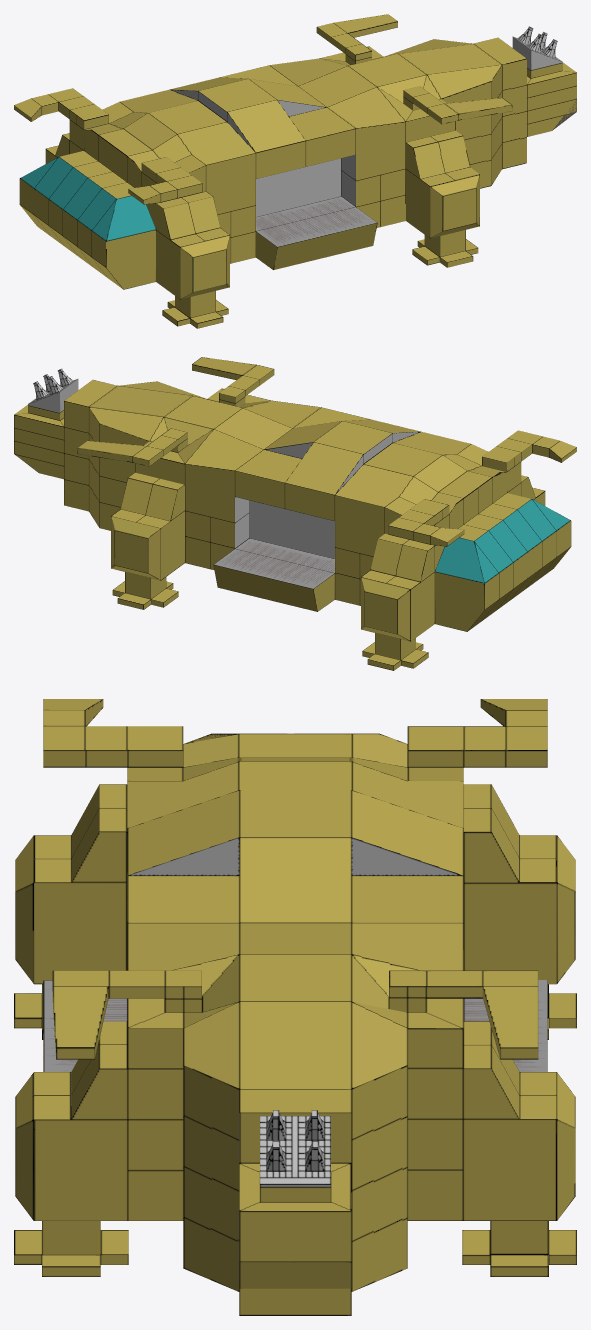
Rendered from drop_ship_bodyMK2.obj.
3 renders of one model, top to bottom at view 1: azimuth 30°, elevation 25°; view 2: azimuth 150°, elevation 25°; view 3: azimuth 270°, elevation 25°, orthographic. The views are drawn at different scales.
Parts seen in each view (by area): view 1: main_body.MK2_Cube.015; view 2: main_body.MK2_Cube.015; view 3: main_body.MK2_Cube.015.
Part boxes in pixels (x1,y1,x2,y2): main_body.MK2_Cube.015: (14, 14, 576, 328); main_body.MK2_Cube.015: (14, 357, 576, 670); main_body.MK2_Cube.015: (14, 699, 576, 1315).
Size of the model in its own units: 20 by 5.84 by 10.04.
Materials: 1 (1 with a texture image).
